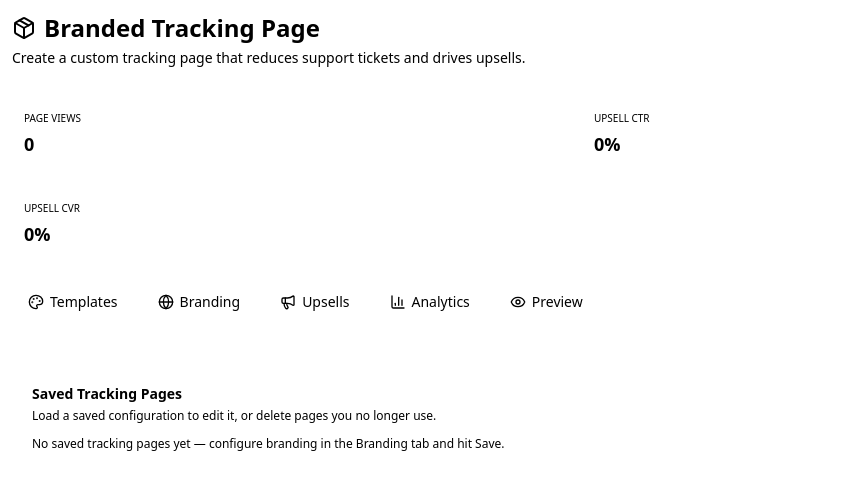
Scenario: TrackingPageManager › shows empty analytics state
Click the button "Analytics": {"x": 430, "y": 302} [374,284,486,320]
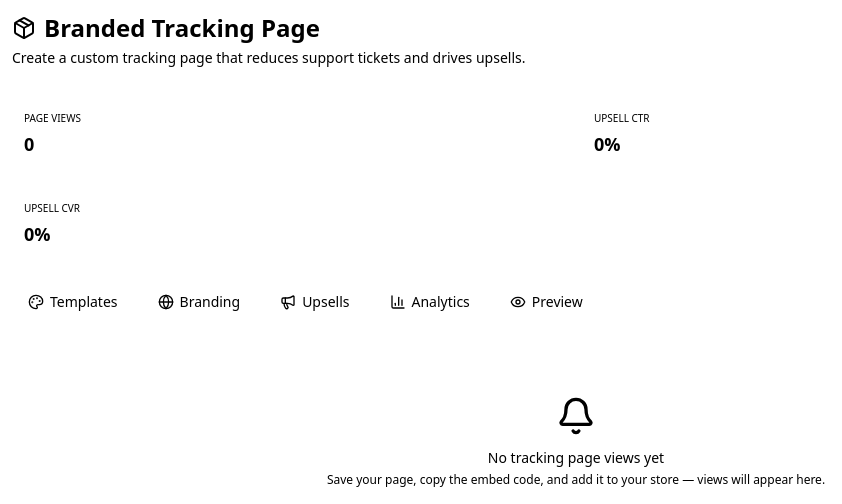
Expected: the text "No tracking page views yet" is shown, [488,448,664,467]
